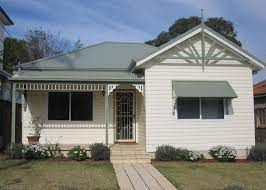Tin-shade House: (16, 21, 259, 161)
